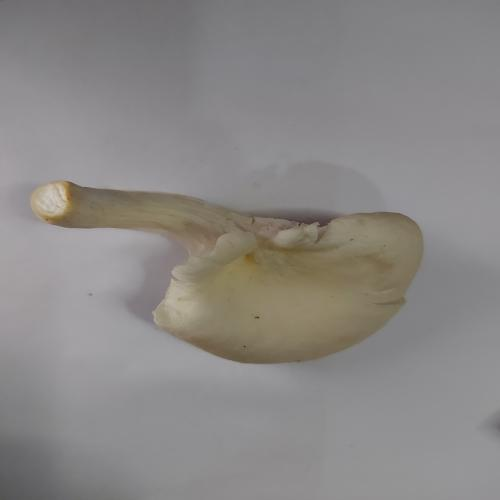Oyster Mushroom: (29, 178, 425, 365)
